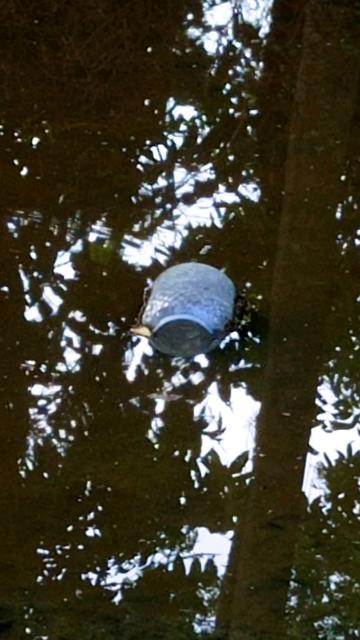hardplastic: (138, 260, 237, 345)
